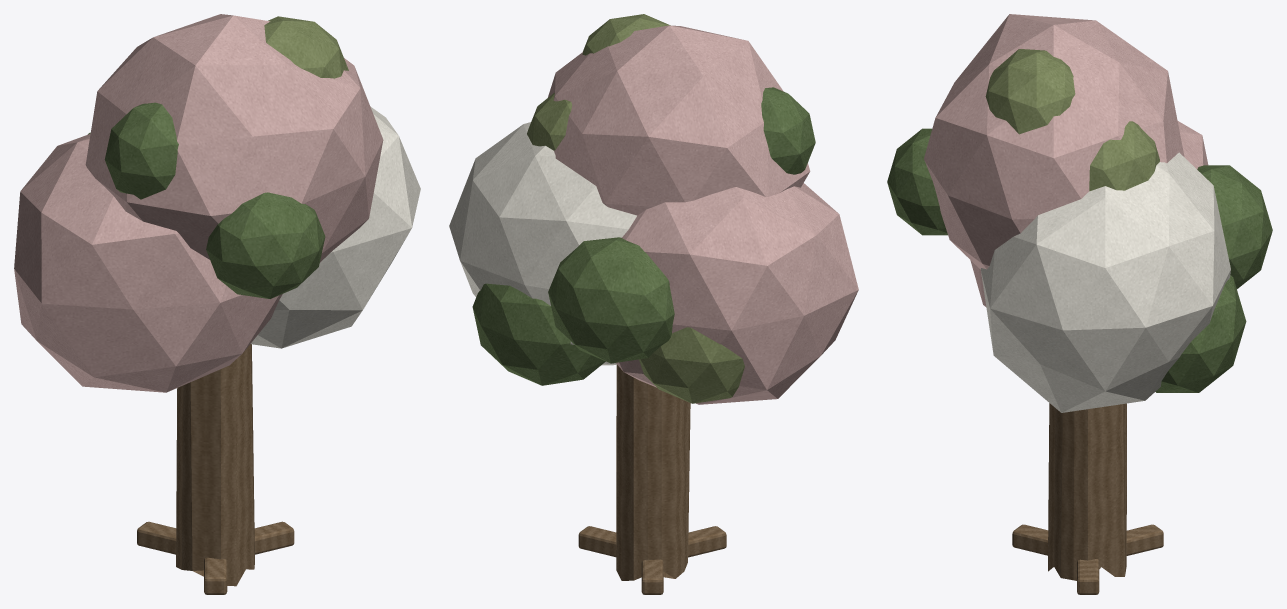
File: NAT_TREE_FLOWER_1x1_001.glb
The picture shows the model from 3 angles, left to right: view 1: azimuth 30°, elevation 25°; view 2: azimuth 150°, elevation 25°; view 3: azimuth 270°, elevation 25°; orthographic projection. The views are drawn at different scales.
Visible parts, largest first — view 1: NAT_TREE_FLOWER_1x1_001_Visual; view 2: NAT_TREE_FLOWER_1x1_001_Visual; view 3: NAT_TREE_FLOWER_1x1_001_Visual.
Part boxes in pixels (x1,y1,x2,y2): NAT_TREE_FLOWER_1x1_001_Visual: (14, 14, 420, 594); NAT_TREE_FLOWER_1x1_001_Visual: (449, 14, 858, 594); NAT_TREE_FLOWER_1x1_001_Visual: (887, 14, 1272, 594).
Size of what is drawn, in the model's own units: 1.26 by 1.76 by 1.12.
5 materials, 5 textured.
